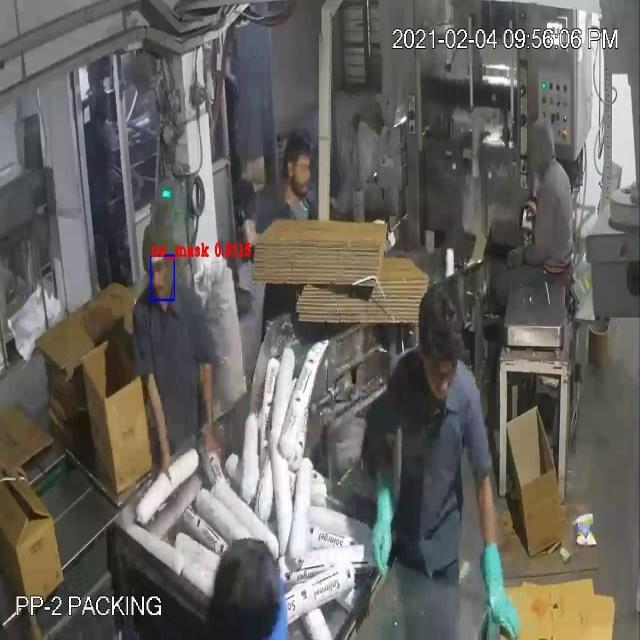No_Gloves: (28, 124, 500, 553)
